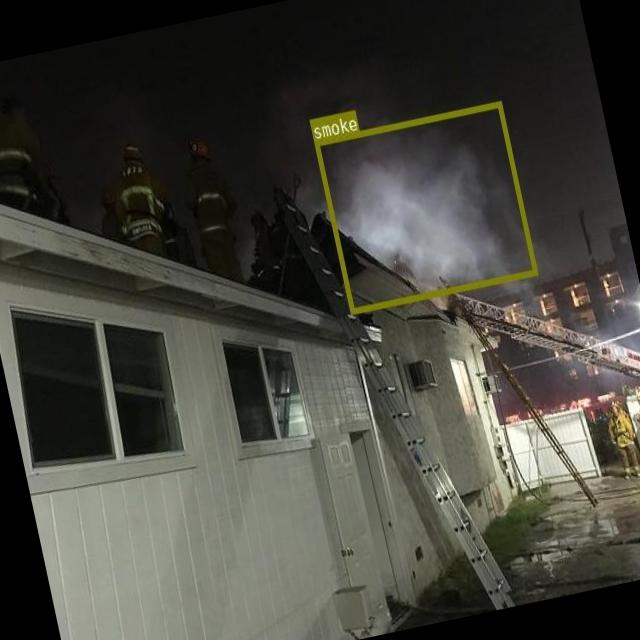smoke: (313, 100, 537, 314)
